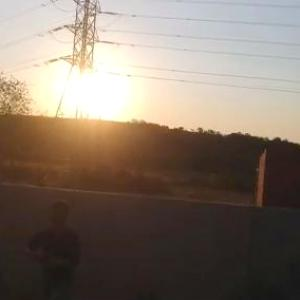follow: (19, 189, 85, 299)
